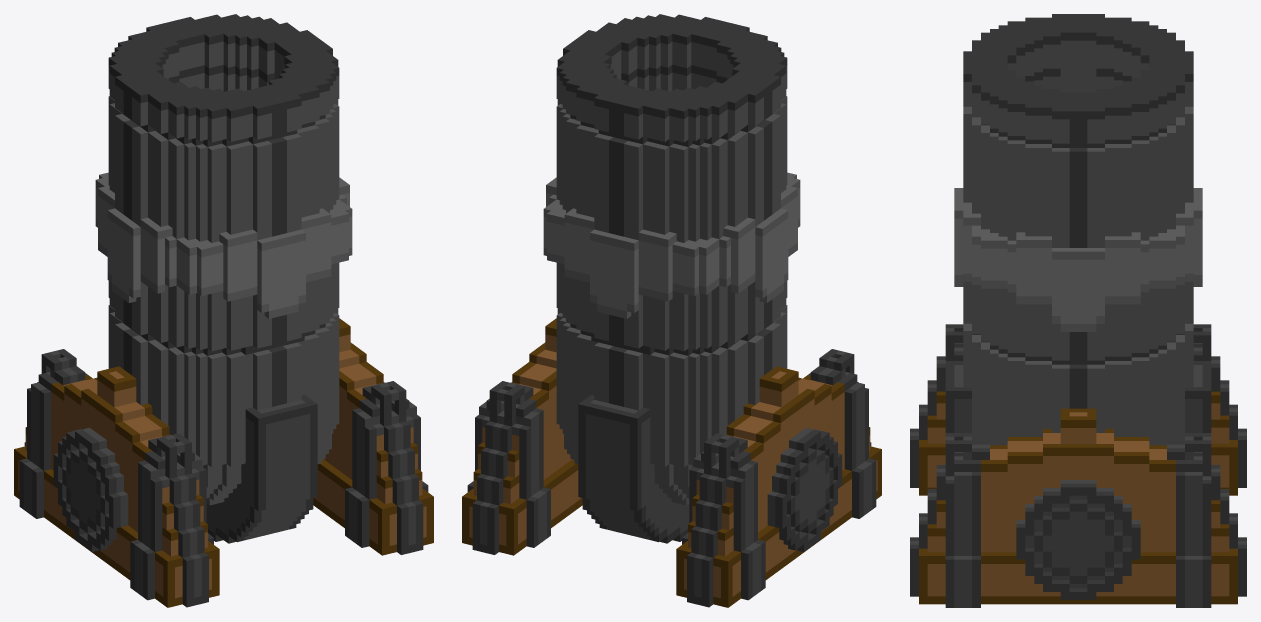
The model's file is Mortar.fbx.
3 renders of one model, left to right at view 1: azimuth 30°, elevation 25°; view 2: azimuth 150°, elevation 25°; view 3: azimuth 270°, elevation 25°, orthographic. The views are drawn at different scales.
Parts seen in each view (by area): view 1: Mortar, Mortar Base; view 2: Mortar, Mortar Base; view 3: Mortar, Mortar Base.
Part boxes in pixels (x1,y1,x2,y2): Mortar: [95, 14, 352, 543]; Mortar Base: [14, 318, 433, 607]; Mortar: [543, 14, 800, 543]; Mortar Base: [462, 318, 881, 607]; Mortar: [945, 14, 1211, 445]; Mortar Base: [910, 324, 1246, 607].
Size of the model in its own units: 0.678 by 0.678 by 1.05.
Materials: 2 (2 with a texture image).
